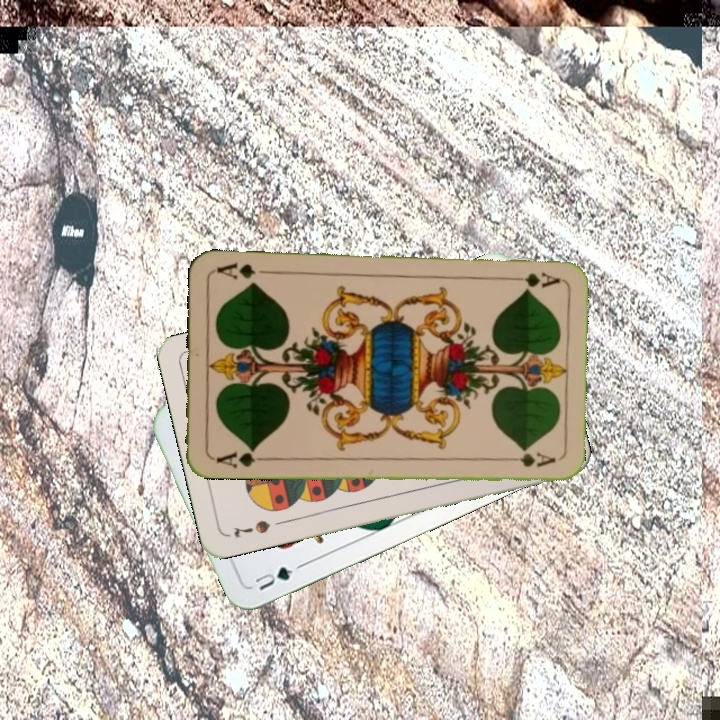GA: (210, 444, 269, 470), (503, 268, 562, 290)
GU: (250, 560, 305, 594)
S7: (229, 516, 273, 540)
